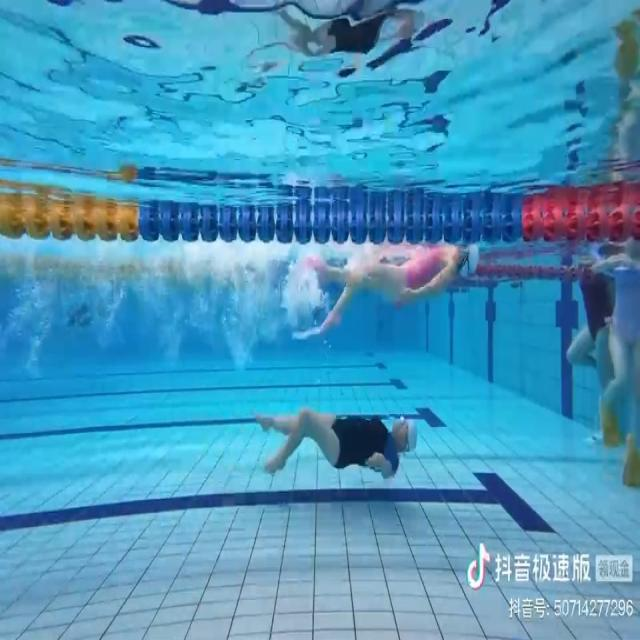Swimming: (292, 242, 489, 344), (254, 402, 419, 478)
